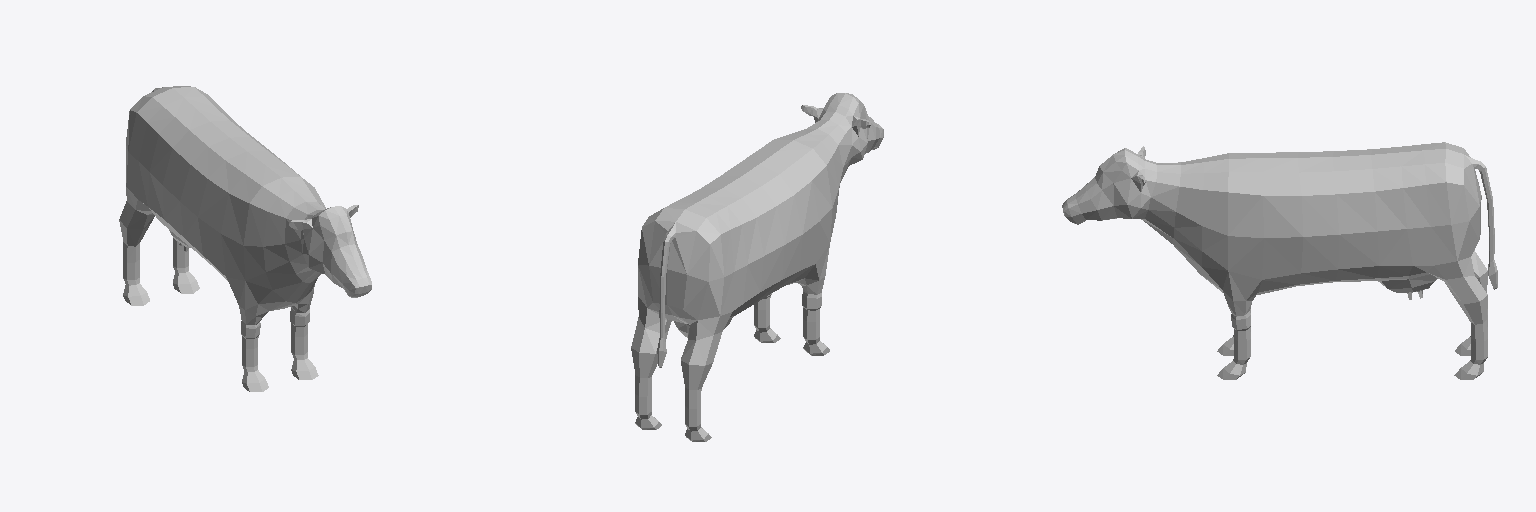
File: cow.obj
3 renders of one model, left to right at view 1: azimuth 30°, elevation 25°; view 2: azimuth 150°, elevation 25°; view 3: azimuth 270°, elevation 25°, orthographic.
Visible parts, largest first — view 1: cow; view 2: cow; view 3: cow.
Boxes of the visible parts, x1,y1,x2,y2 form: cow: [119, 86, 371, 391]; cow: [631, 93, 883, 441]; cow: [1062, 142, 1497, 379].
Size of the model in its own units: 3.36 by 7.42 by 13.65.